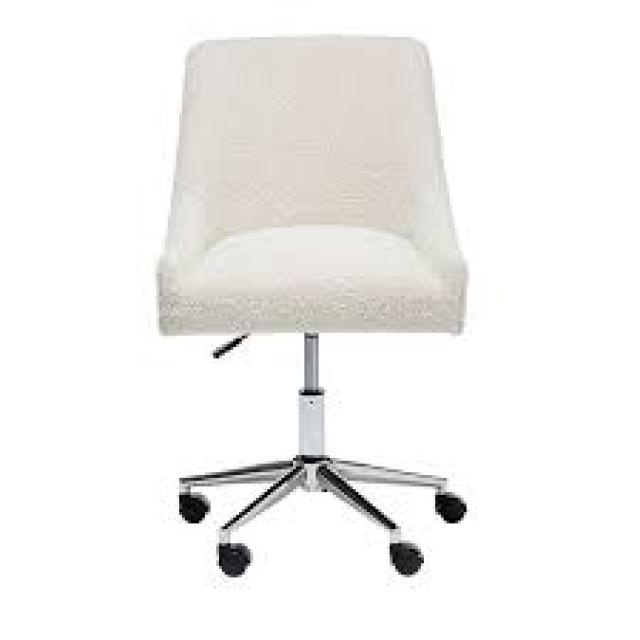chair: (54, 11, 617, 640)
